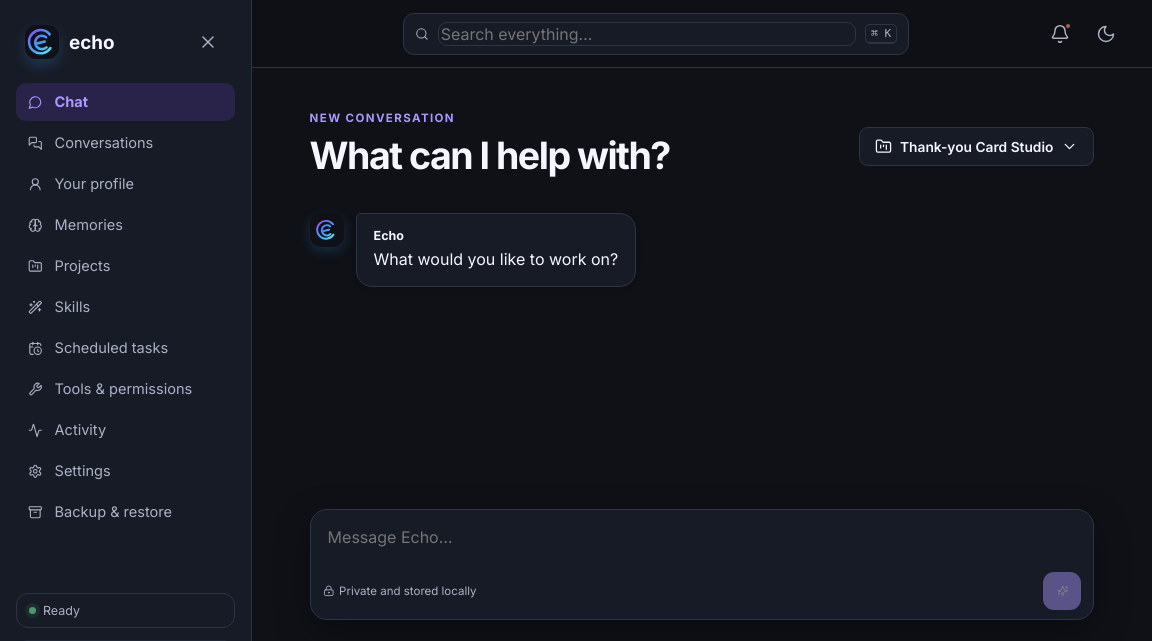
Echo desktop › requires confirmation before forgetting a memory
Click the button "Memories".
click(126, 225)  # box x1=16 y1=206 x2=235 y2=244
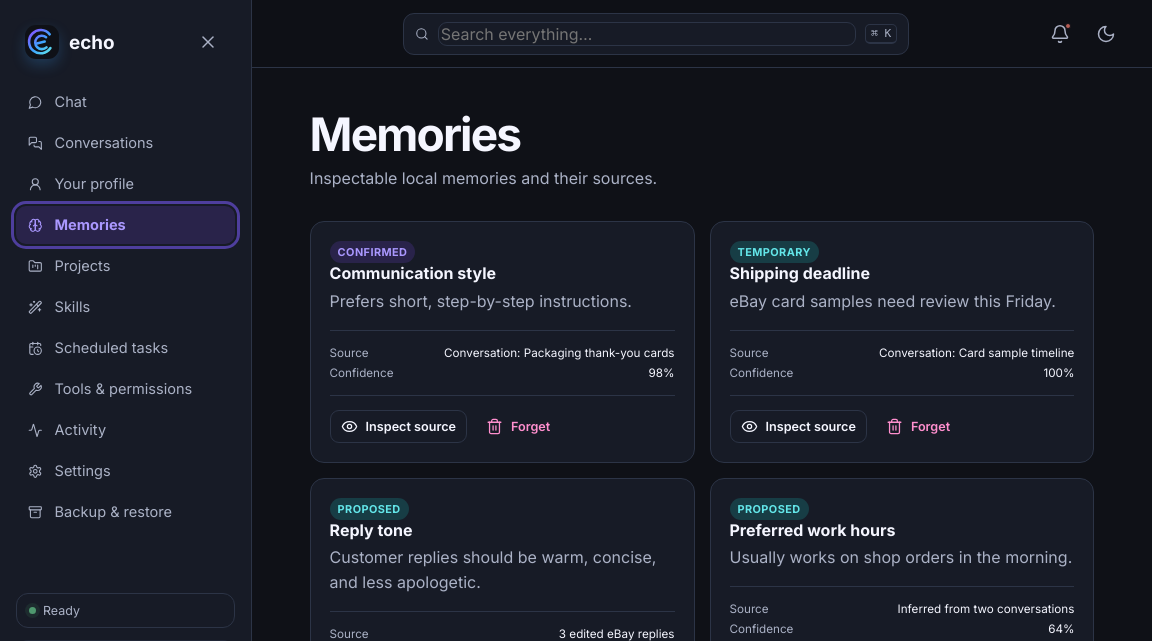
Click the button "Forget" below "98".
click(518, 426)  # box x1=475 y1=410 x2=561 y2=443
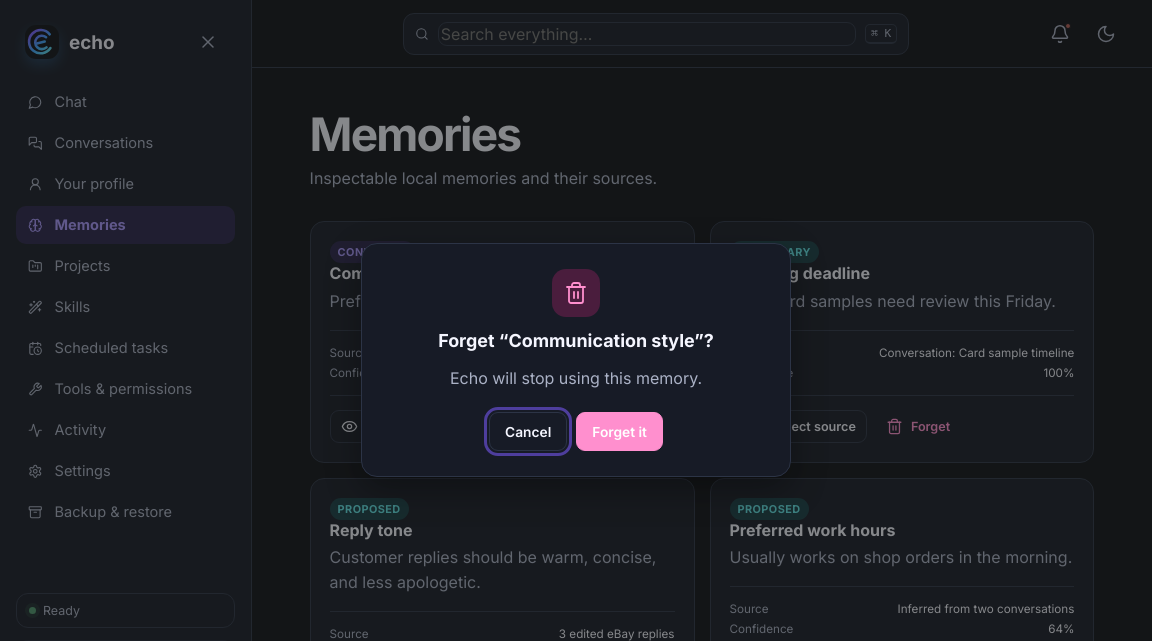
Check: the dialog is shown, box x1=361 y1=243 x2=791 y2=477
Check: the button "Forget it" is shown, box x1=576 y1=412 x2=663 y2=451
